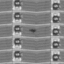dust: (29, 27, 36, 32)
